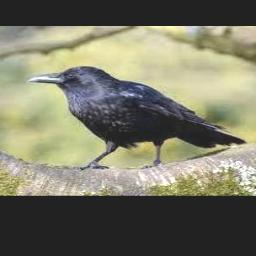Crow: (27, 66, 246, 170)
